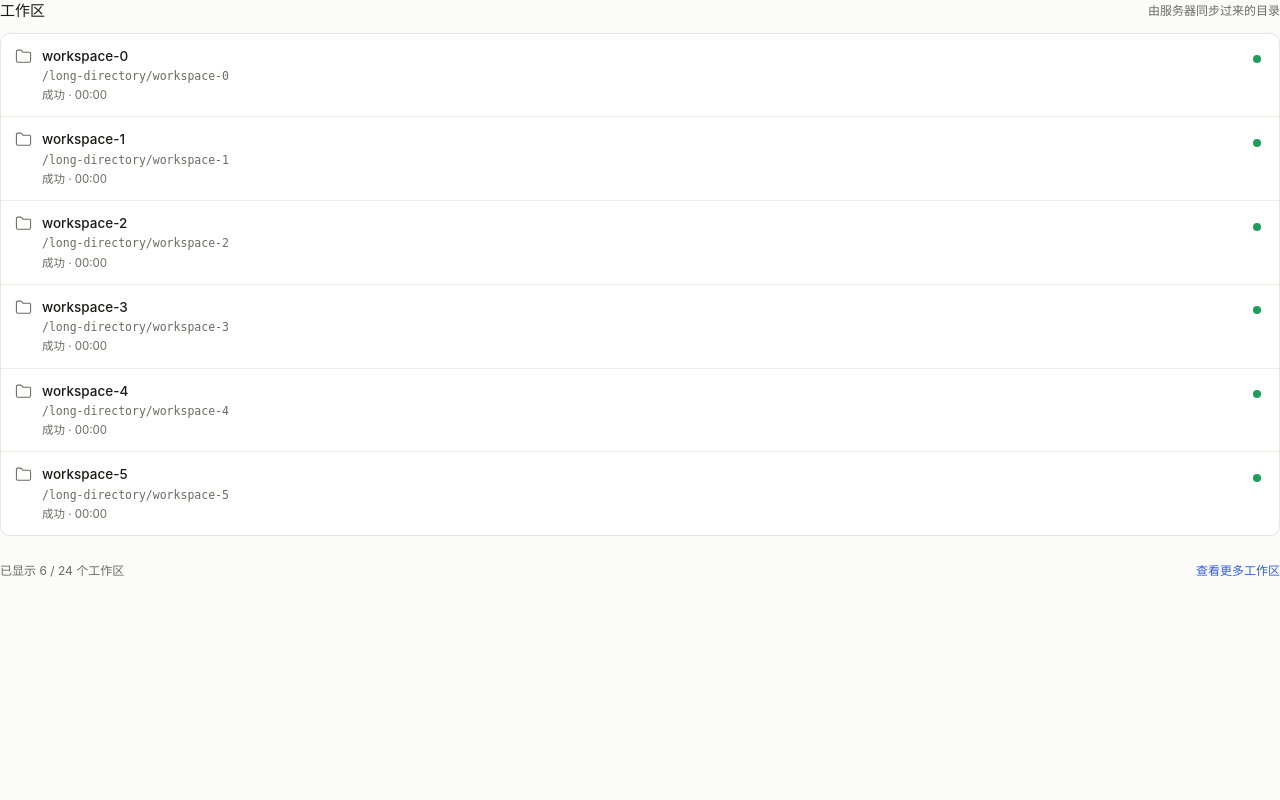
workspace cards show six initially and expose all rows through the more action
The width and height of the screenshot is (1280, 800).
expect the number of headings named "打开工作区" is 6: met, box x1=1253 y1=55 x2=1261 y2=63; x1=1253 y1=139 x2=1261 y2=147; x1=1253 y1=223 x2=1261 y2=231; x1=1253 y1=306 x2=1261 y2=314; x1=1253 y1=390 x2=1261 y2=398; x1=1253 y1=474 x2=1261 y2=482
expect the text "已显示 6 / 24 个工作区" is shown: met, box x1=0 y1=562 x2=124 y2=580
Click the button "查看更多工作区": [1238, 571] box x1=1196 y1=555 x2=1279 y2=587
(page scrolled)
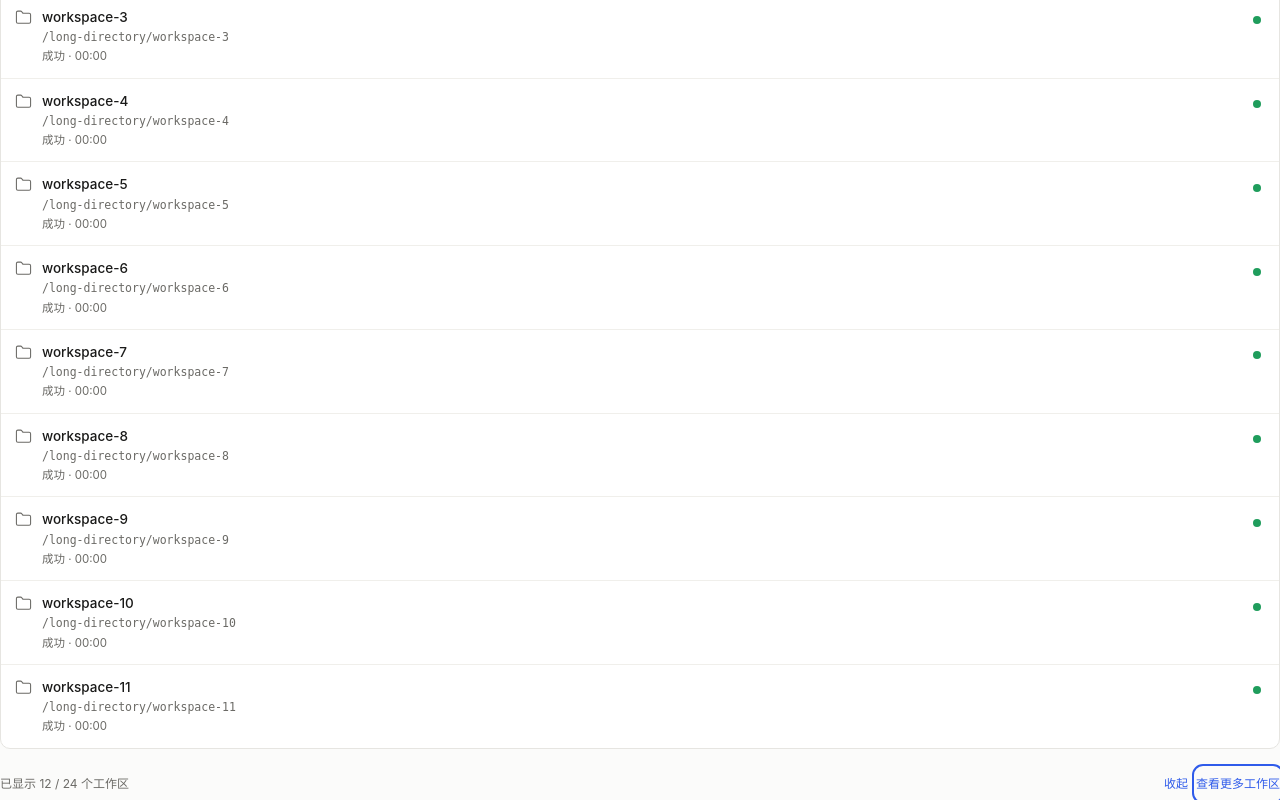
Click the button "查看更多工作区": [1238, 784] box x1=1196 y1=768 x2=1279 y2=799
(page scrolled)
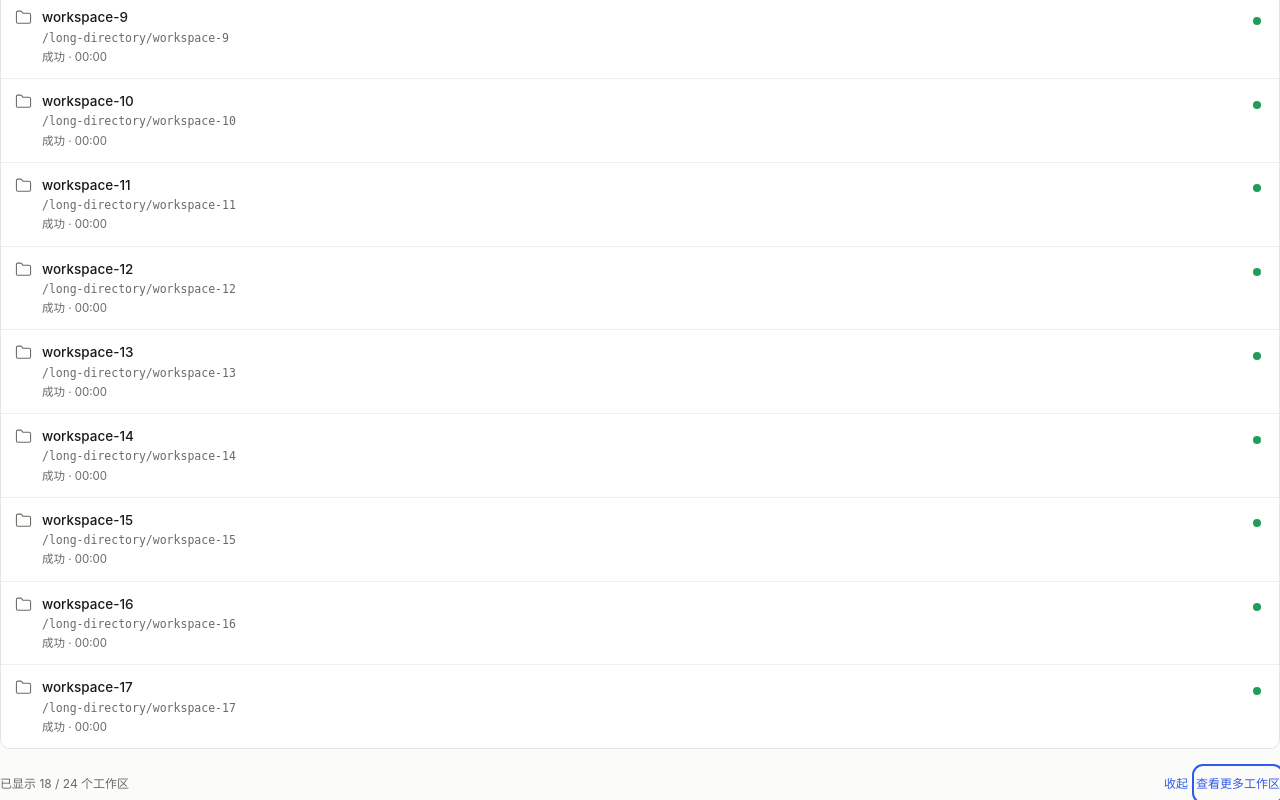
Click the button "查看更多工作区": [1238, 784] box x1=1196 y1=768 x2=1279 y2=799
(page scrolled)
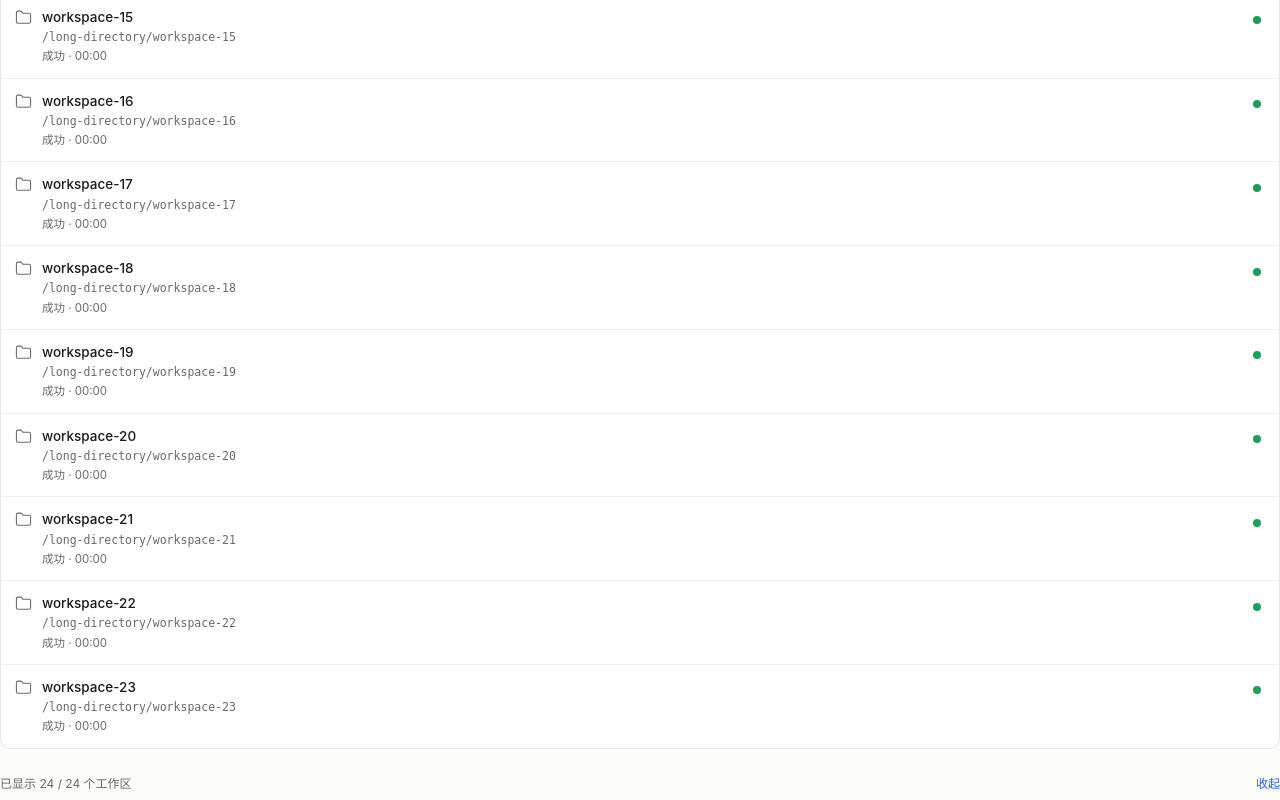
expect the button "查看更多工作区" is gone: met
Click the button "收起": [1268, 784] box x1=1256 y1=768 x2=1279 y2=799
(page scrolled)
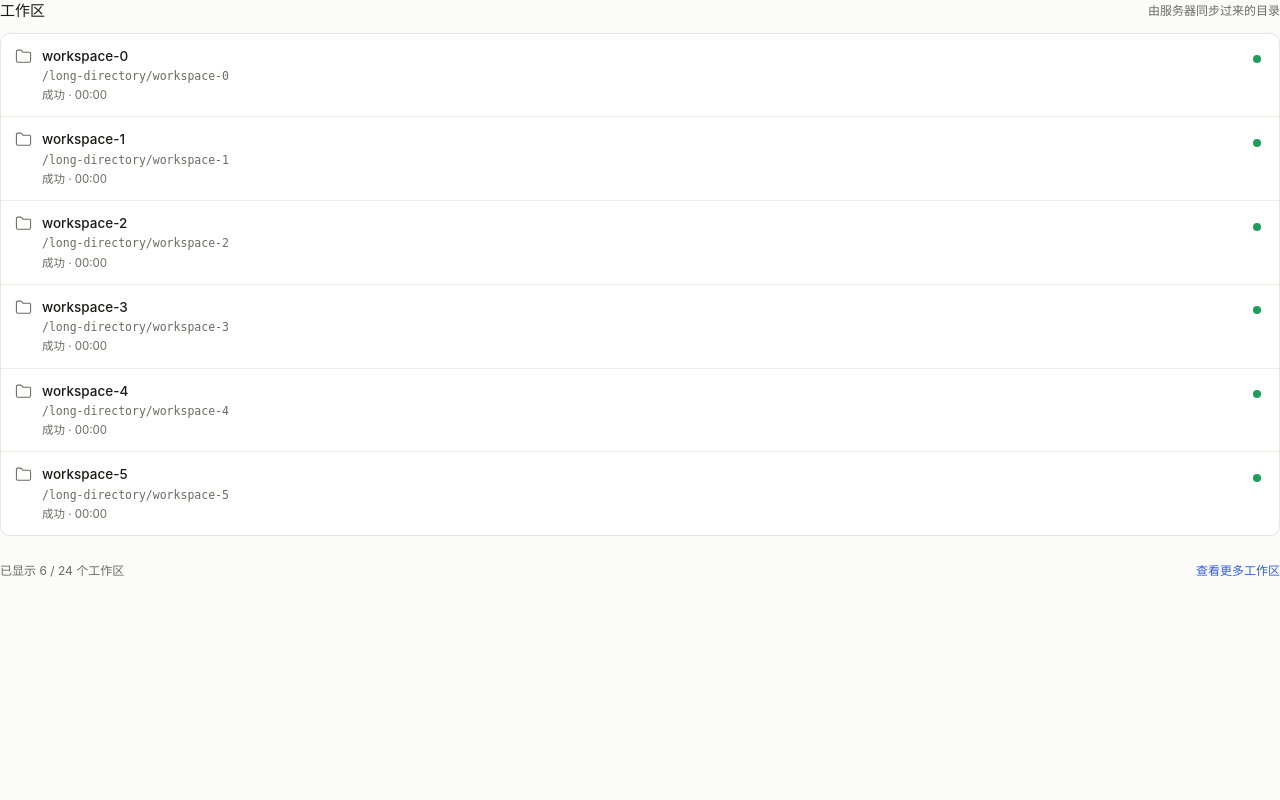
expect the number of headings named "打开工作区" is 6: met, box x1=1253 y1=55 x2=1261 y2=63; x1=1253 y1=139 x2=1261 y2=147; x1=1253 y1=223 x2=1261 y2=231; x1=1253 y1=306 x2=1261 y2=314; x1=1253 y1=390 x2=1261 y2=398; x1=1253 y1=474 x2=1261 y2=482
